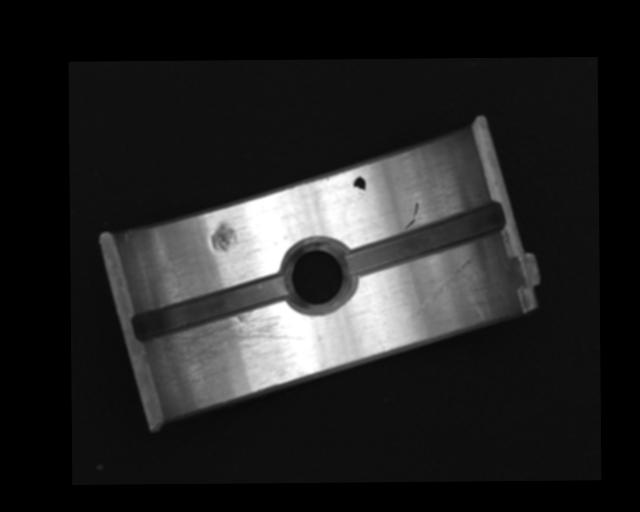blot: (352, 175, 366, 196)
bruise: (210, 221, 238, 253)
gap: (346, 200, 504, 275), (131, 273, 291, 340)
hole: (282, 240, 352, 314)
nick: (410, 254, 477, 321), (404, 200, 419, 230)
scratch: (142, 309, 308, 388)
